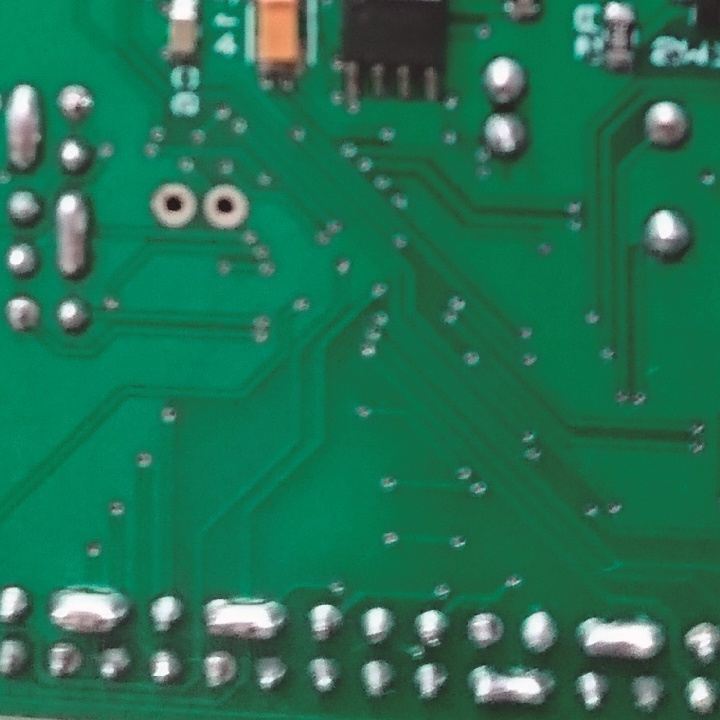F: (197, 178, 250, 235), (147, 180, 200, 232), (1, 293, 44, 338), (201, 648, 244, 690), (55, 83, 97, 122), (684, 618, 720, 663), (44, 640, 83, 680), (466, 611, 504, 651)
P: (44, 581, 131, 635), (3, 80, 47, 175), (200, 595, 283, 643), (573, 612, 656, 658), (465, 662, 551, 706), (53, 192, 96, 278)
